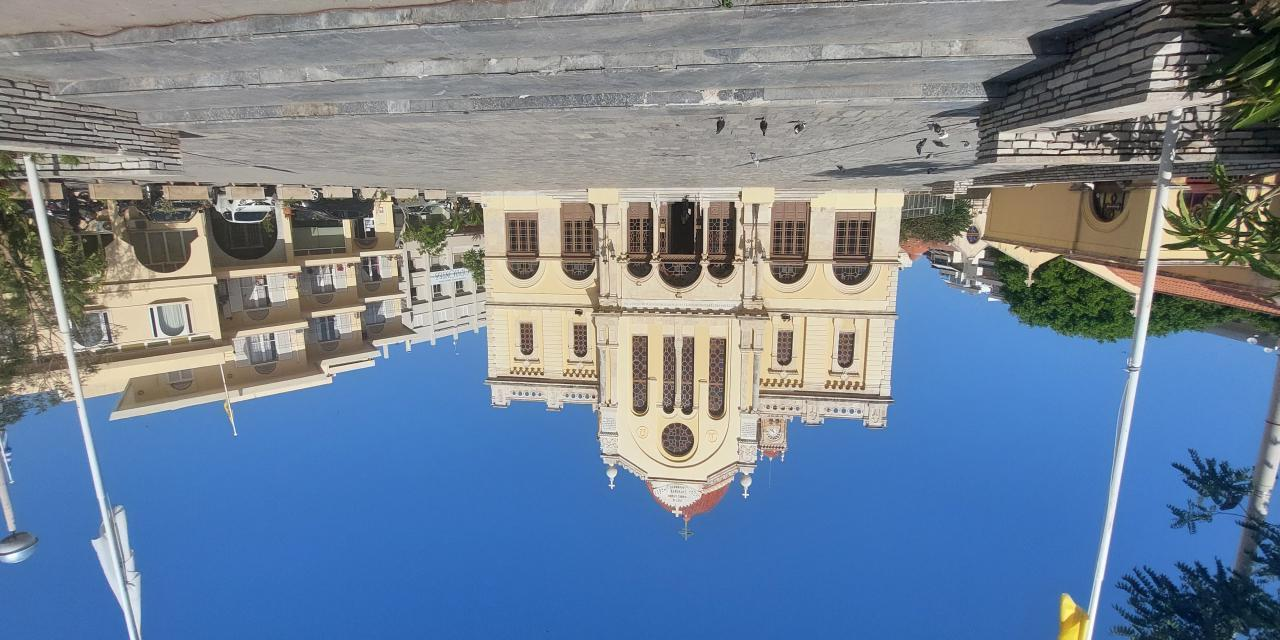Agios Minas: (471, 191, 914, 544)
